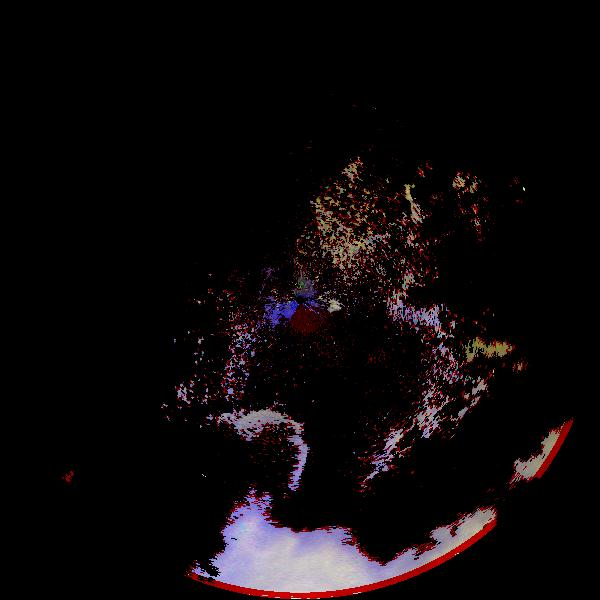roost: (215, 396, 323, 504)
